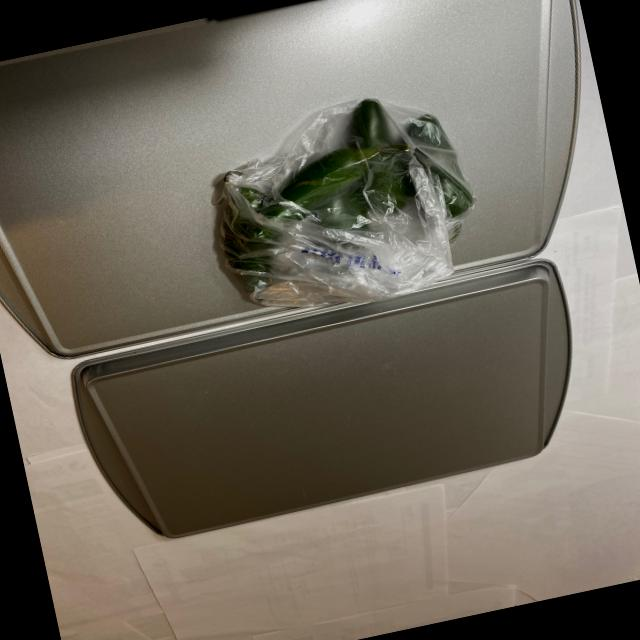chilli: (191, 78, 486, 320)
